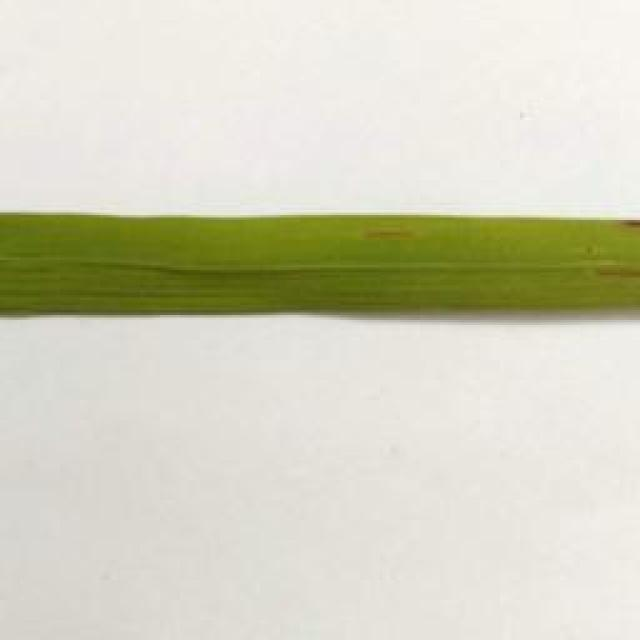Brown_Spot: (361, 209, 422, 249), (575, 265, 640, 289), (609, 217, 640, 227)
